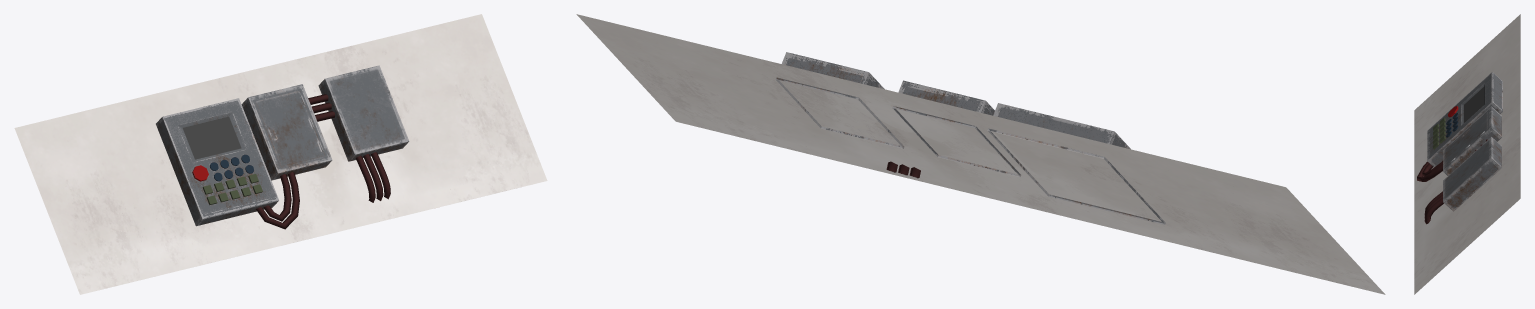
The model's file is PF_StrgElecPanl.fbx.
The picture shows the model from 3 angles, left to right: view 1: azimuth 30°, elevation 25°; view 2: azimuth 150°, elevation 25°; view 3: azimuth 270°, elevation 25°; orthographic projection. The views are drawn at different scales.
Visible parts, largest first — view 1: SM_StrgElecBox, Cube_017, Cube_018, Cube_019, RT_Wire_001, RT_Wire_006, Cube_020, Cylinder_031, RT_Wire_005; view 2: SM_StrgElecBox, Cube_017, Cube_019, Cube_018; view 3: SM_StrgElecBox, Cube_017, Cube_019, Cube_018, RT_Wire_001, RT_Wire_006, Cube_020, Cylinder_031.
Part boxes in pixels (left/top/right/bottom): SM_StrgElecBox: left=14, top=14, right=547, bottom=294; Cube_017: left=156, top=98, right=278, bottom=226; Cube_018: left=241, top=84, right=332, bottom=180; Cube_019: left=318, top=65, right=409, bottom=161; RT_Wire_001: left=256, top=172, right=299, bottom=229; RT_Wire_006: left=355, top=152, right=390, bottom=202; Cube_020: left=202, top=174, right=262, bottom=205; Cylinder_031: left=210, top=154, right=254, bottom=181; RT_Wire_005: left=308, top=94, right=334, bottom=121; SM_StrgElecBox: left=576, top=14, right=1385, bottom=294; Cube_017: left=987, top=103, right=1165, bottom=224; Cube_019: left=775, top=52, right=904, bottom=148; Cube_018: left=892, top=80, right=1021, bottom=177; SM_StrgElecBox: left=1414, top=14, right=1520, bottom=294; Cube_017: left=1427, top=72, right=1502, bottom=167; Cube_019: left=1443, top=137, right=1501, bottom=211; Cube_018: left=1443, top=106, right=1501, bottom=175; RT_Wire_001: left=1417, top=161, right=1442, bottom=181; RT_Wire_006: left=1424, top=191, right=1443, bottom=224; Cube_020: left=1433, top=117, right=1445, bottom=149; Cylinder_031: left=1446, top=113, right=1458, bottom=137.
Size of the model in its own units: 179 by 43.47 by 43.47.
Materials: 1 (1 with a texture image).
